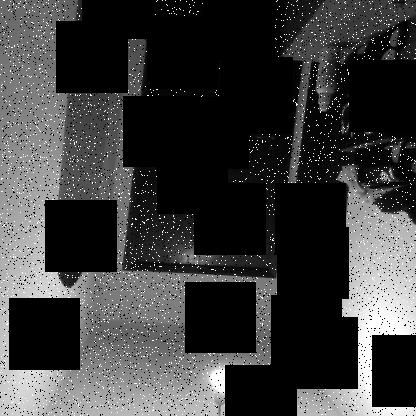Porte: (120, 1, 309, 280)
